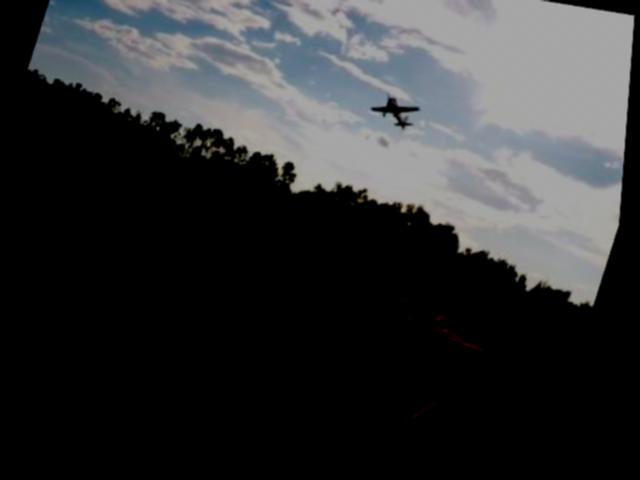uav: (362, 91, 430, 148)
